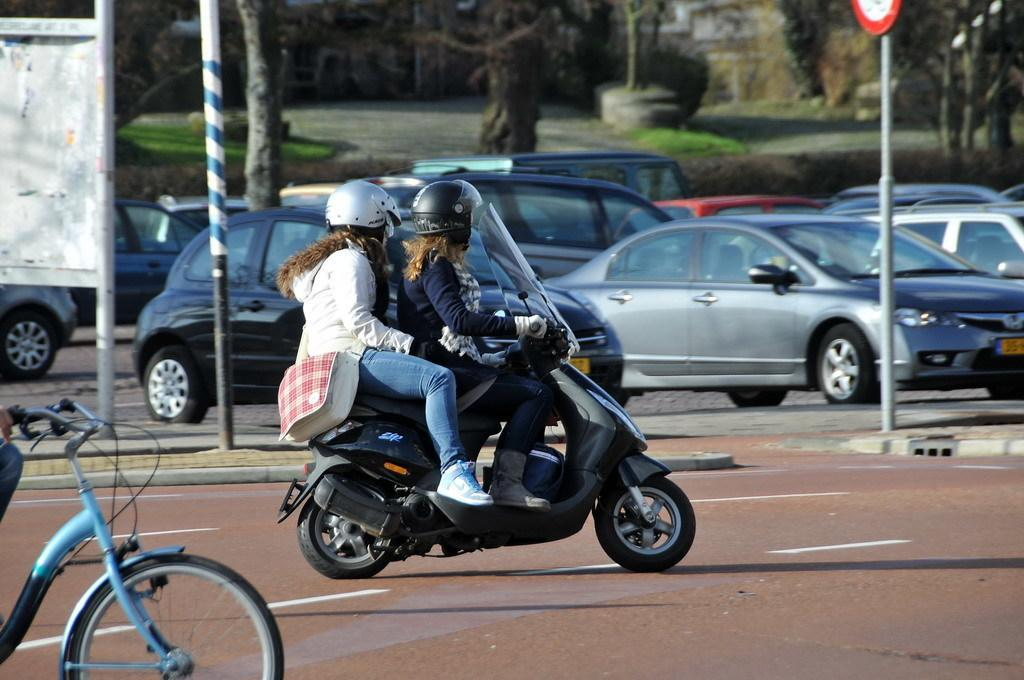helmet: (324, 178, 403, 252), (409, 178, 486, 253)
